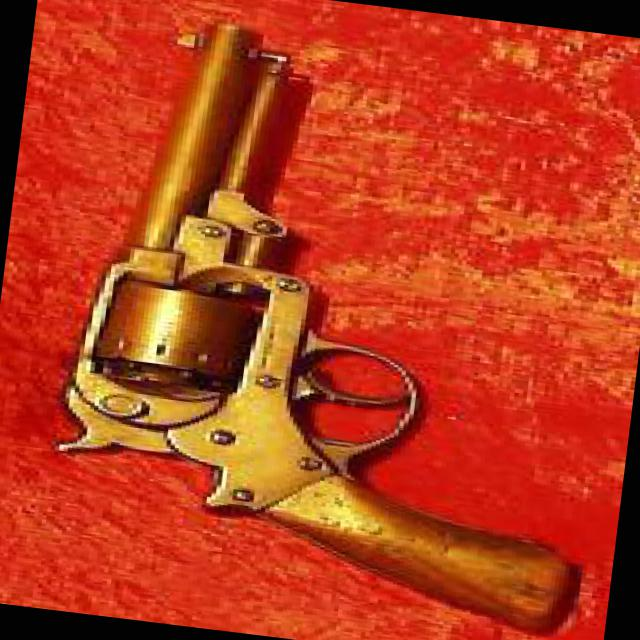handgun: (30, 5, 639, 639)
